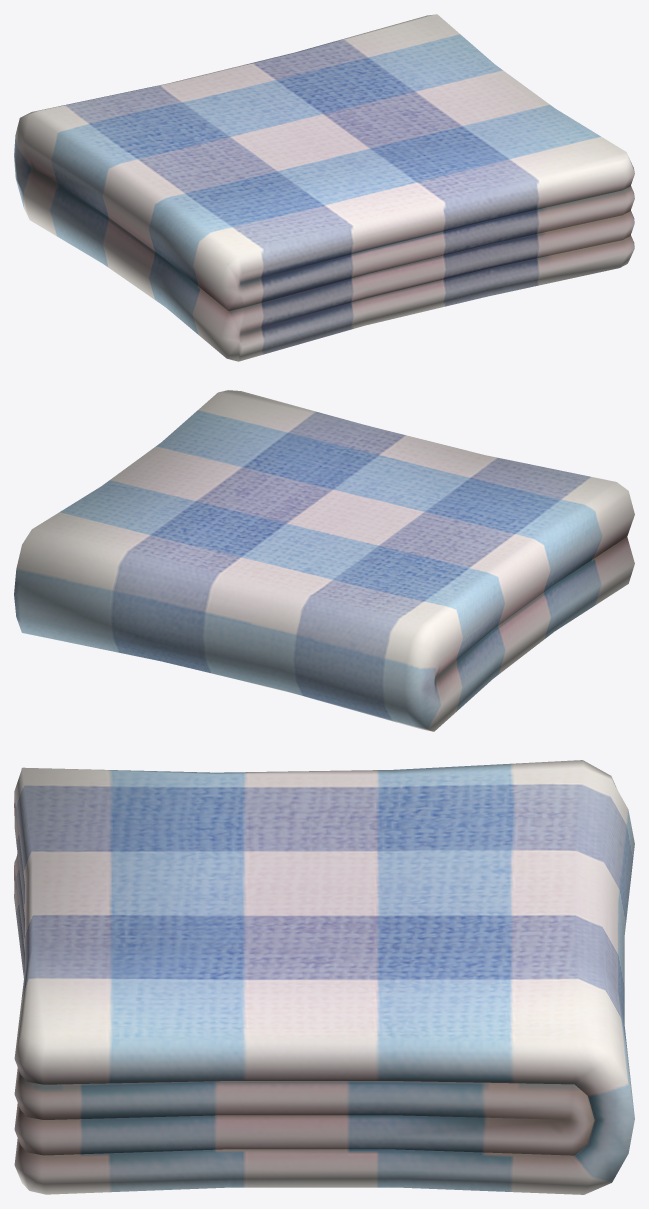
The model's file is SE_Blanket_02.fbx.
3 renders of one model, top to bottom at view 1: azimuth 30°, elevation 25°; view 2: azimuth 150°, elevation 25°; view 3: azimuth 270°, elevation 25°, orthographic. The views are drawn at different scales.
Parts seen in each view (by area): view 1: SE_Blanket_02; view 2: SE_Blanket_02; view 3: SE_Blanket_02.
Part boxes in pixels (x1,y1,x2,y2): SE_Blanket_02: [14, 14, 634, 361]; SE_Blanket_02: [14, 390, 634, 731]; SE_Blanket_02: [14, 760, 634, 1194].
Bounding box in the file's own units: 1.74 × 0.4213 × 1.56.
